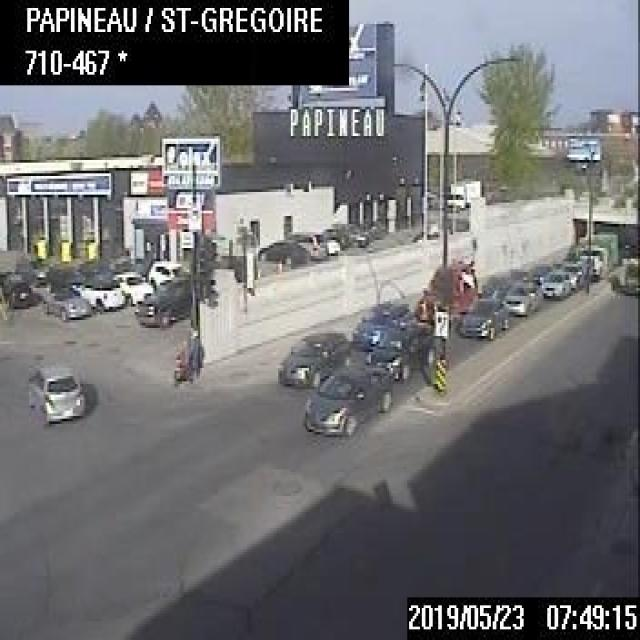pedestrian: (172, 329, 204, 382)
vehicle: (302, 358, 393, 438), (276, 325, 352, 389), (363, 318, 434, 381), (26, 358, 84, 422), (133, 269, 189, 326), (353, 298, 410, 350), (457, 291, 507, 340), (78, 268, 124, 310), (256, 235, 308, 269), (501, 276, 544, 317), (577, 232, 618, 275), (42, 287, 90, 319), (114, 270, 154, 304), (444, 175, 482, 209), (284, 230, 326, 260), (539, 267, 573, 298), (146, 258, 184, 285), (1, 277, 28, 308), (620, 258, 638, 297), (560, 260, 582, 288), (325, 234, 338, 254)
